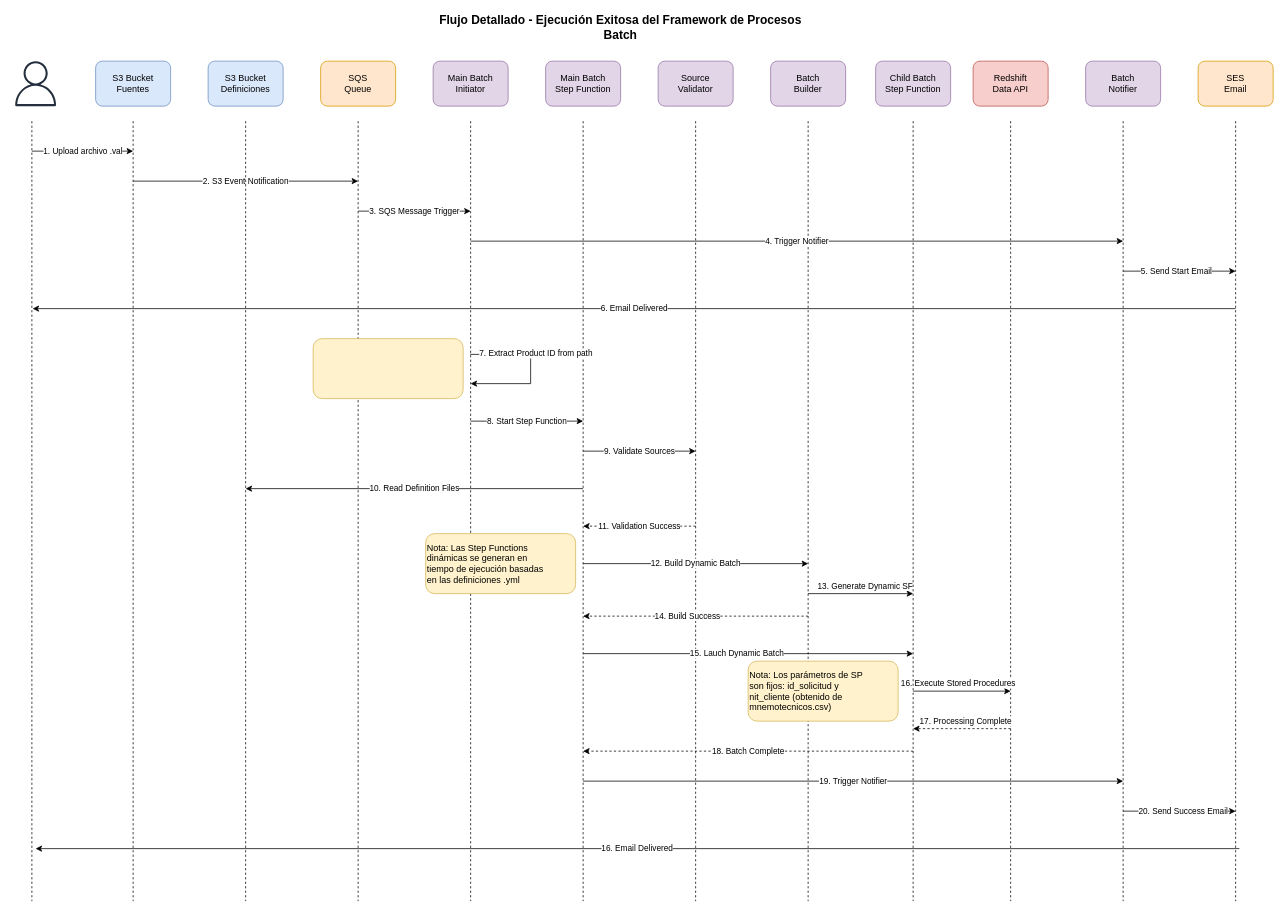
Image size: 1286x915. Some labels were removed from this diagram. Here are the shapes that lost their labels. From the top down, the centre of each, then its label:
At (x=35, y=83): "Operador".
At (x=387, y=368): "Nota: El Product ID se extrae de la estructura de carpetas usando regex pattern".
